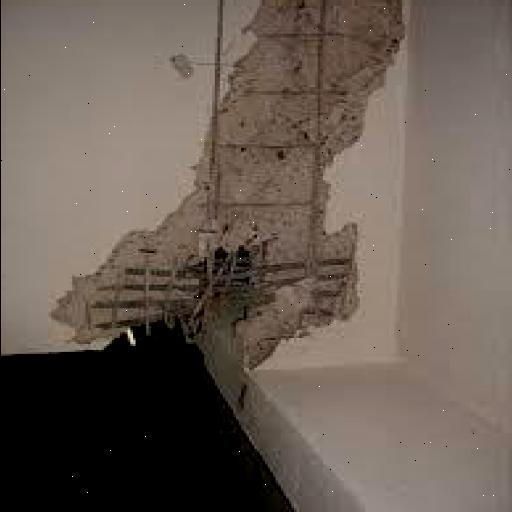spalling: (53, 0, 403, 365)
